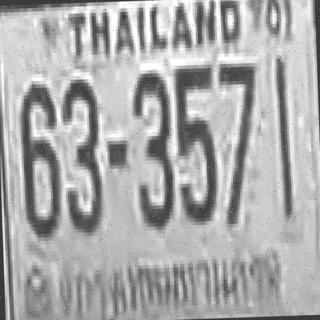N01: (274, 56, 292, 217), (273, 58, 291, 208)
N03: (130, 69, 174, 227), (59, 75, 101, 233)
N05: (172, 61, 217, 222)
N06: (16, 80, 61, 234)
N07: (215, 59, 260, 220), (216, 61, 258, 177), (216, 59, 258, 161)
